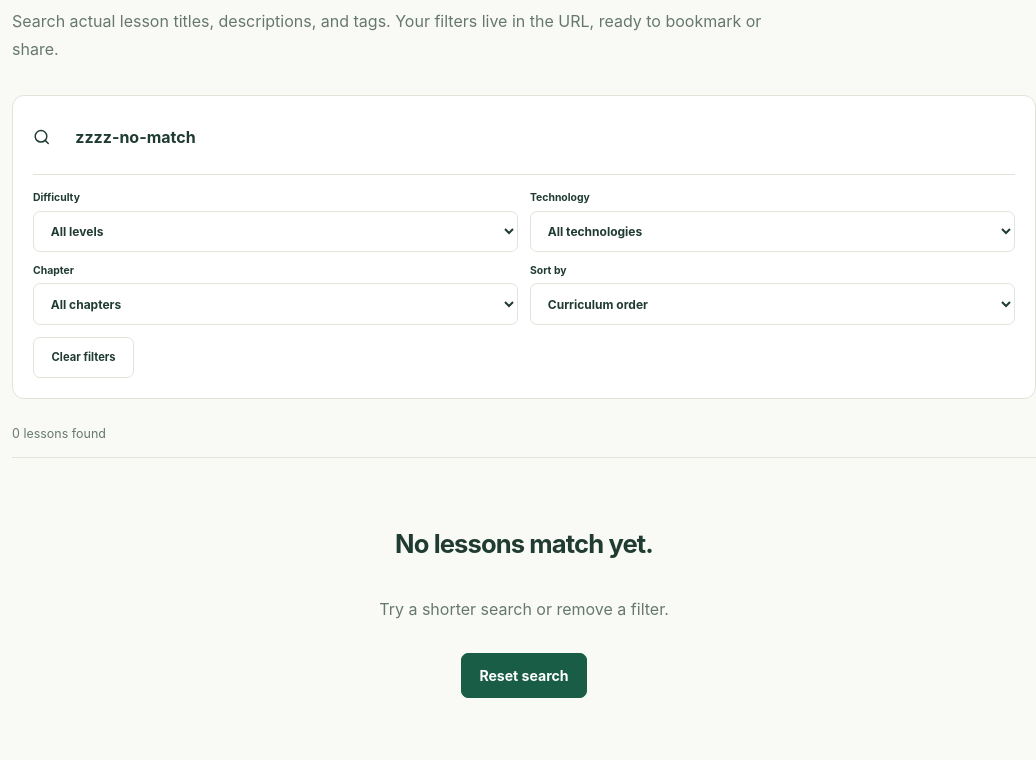
Test: directory search shows empty state and clears filters
(page scrolled)
Expected: the heading "No lessons match yet." is shown, [395,528,653,560]
Click the button "Reset search". click: (524,676)
box: [461,653,587,698]
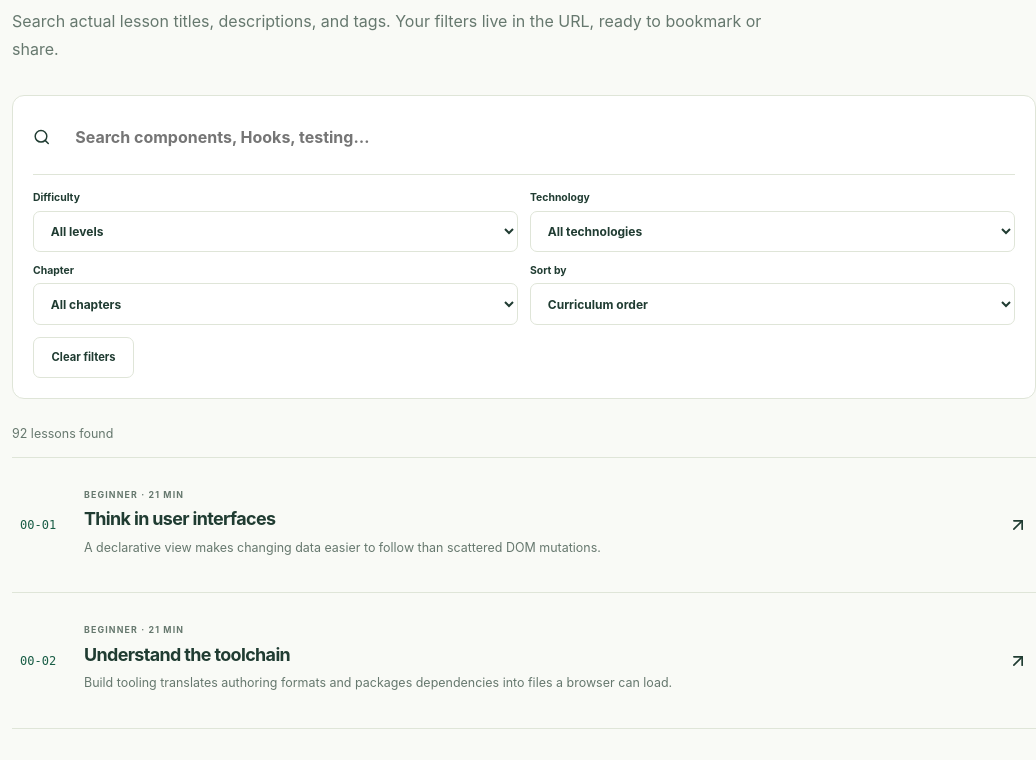
Expected: the message reads "92 lessons found", [12,423,113,445]
Select "typescript" in the dropdown labelled "Technology". click: (772,231)
box: [530,211,1015,252]
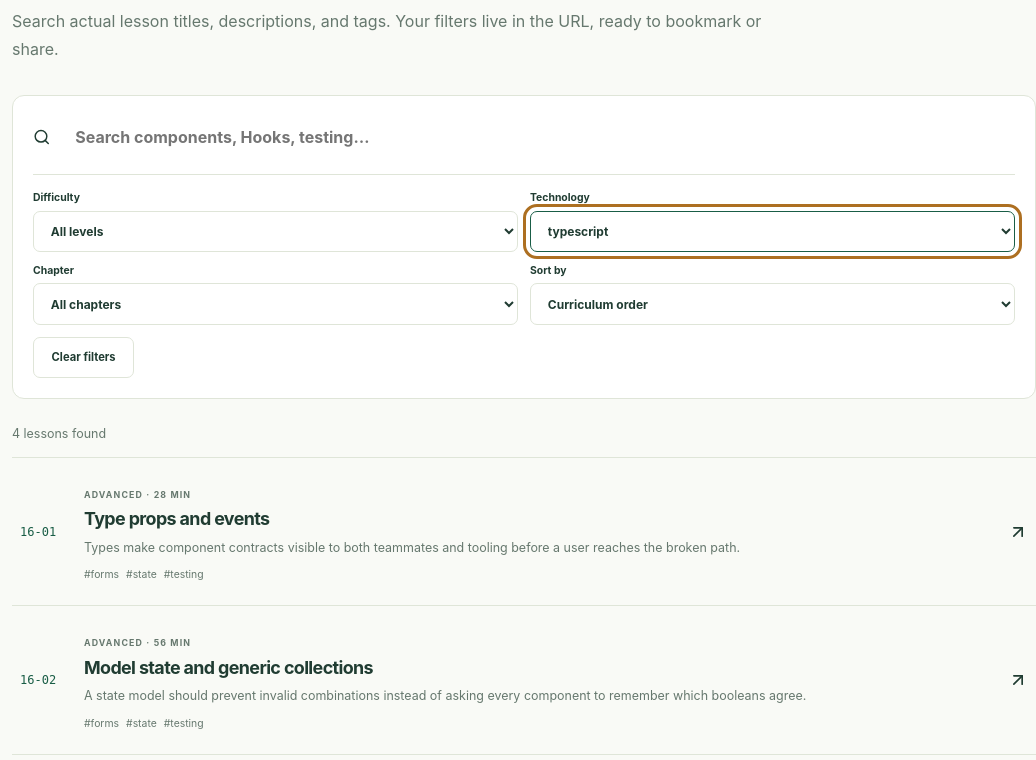
Expected: the message no longer shows "92 lessons found", [12,423,106,445]
